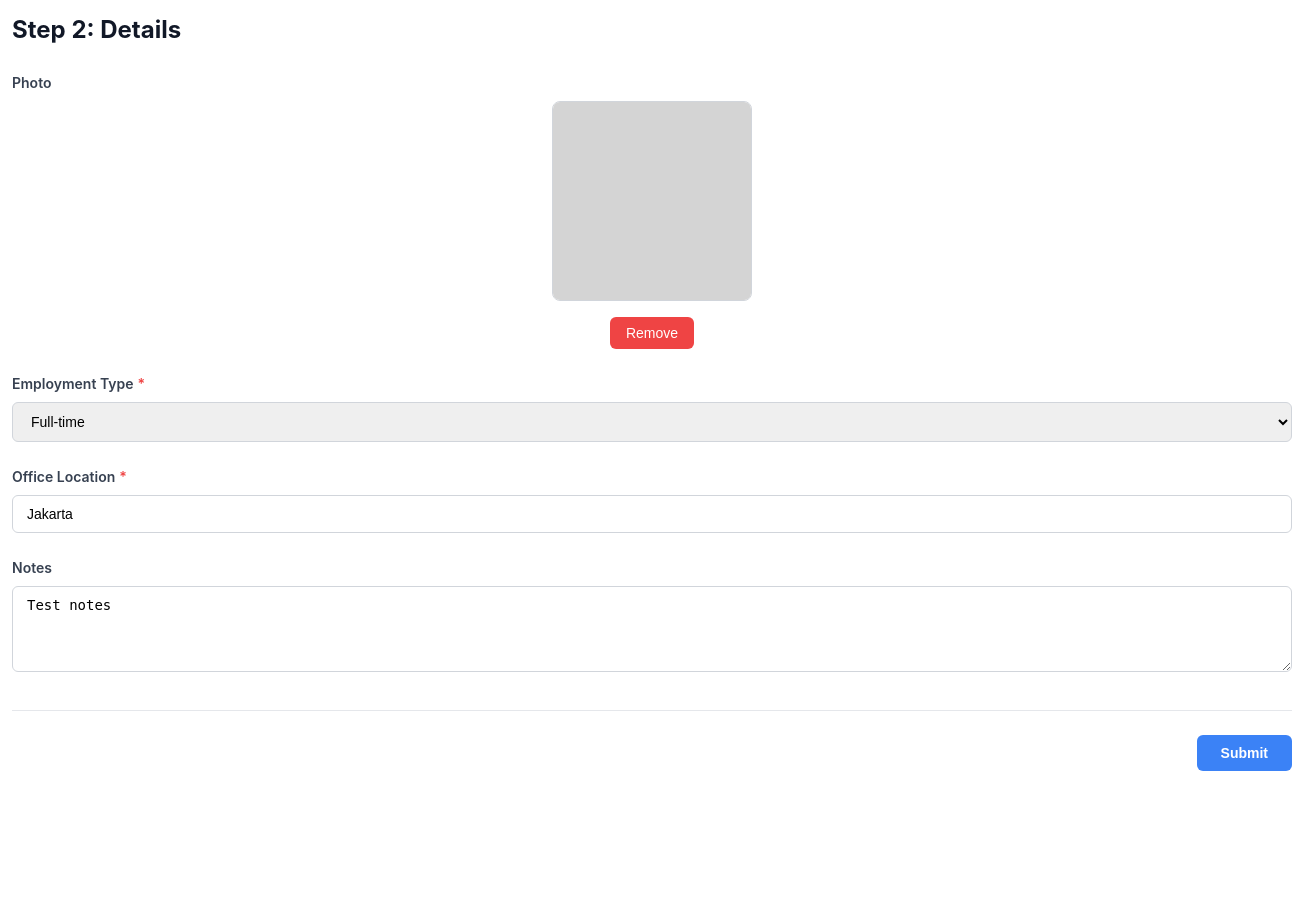
Submit Flow › handles sequential POST and progress states
The width and height of the screenshot is (1304, 912).
Click the button "Submit" at (1244, 753), box left=1196, top=735, right=1292, bottom=771
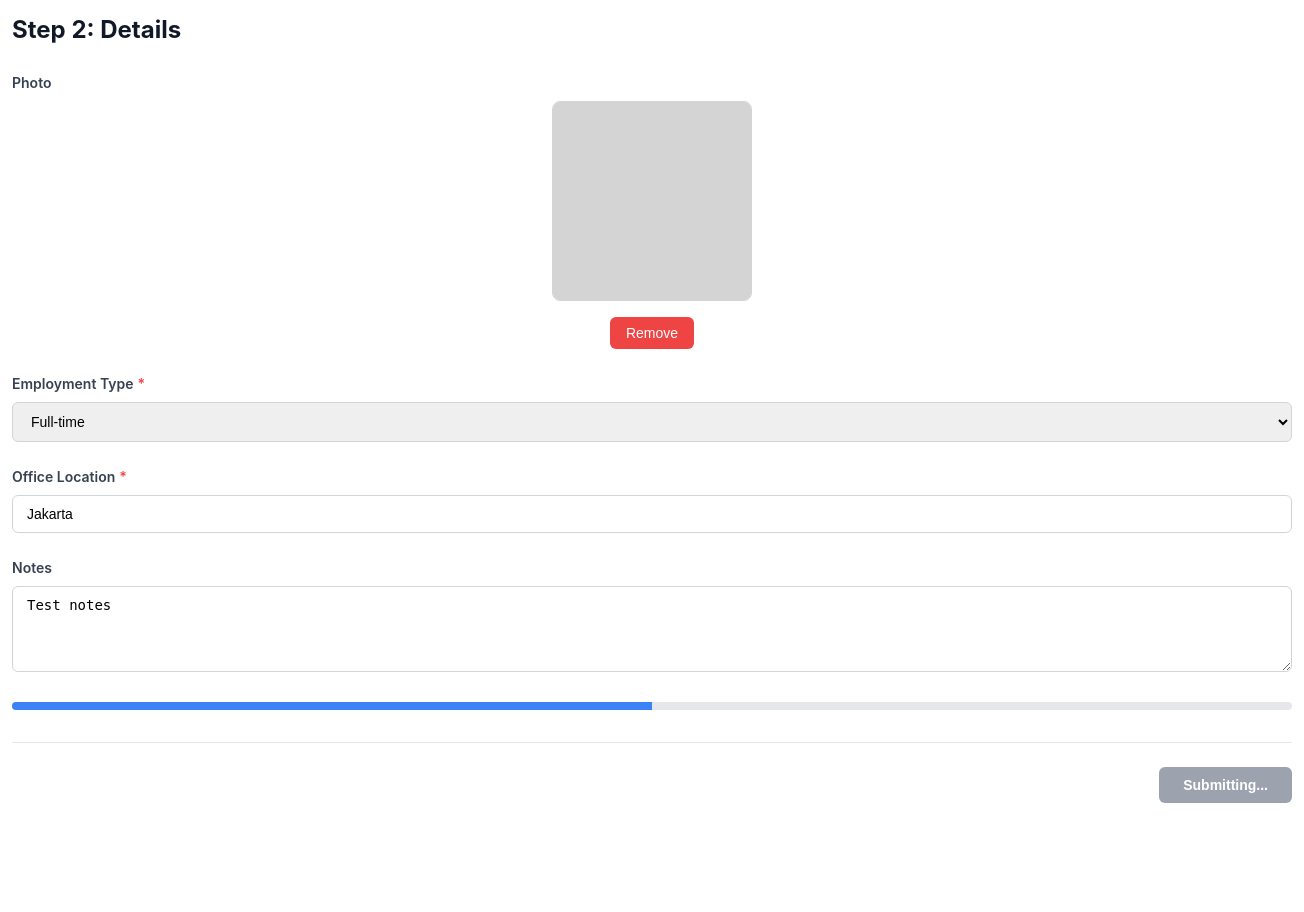
Result: the button "Submitting..." is shown at left=1159, top=767, right=1292, bottom=803
